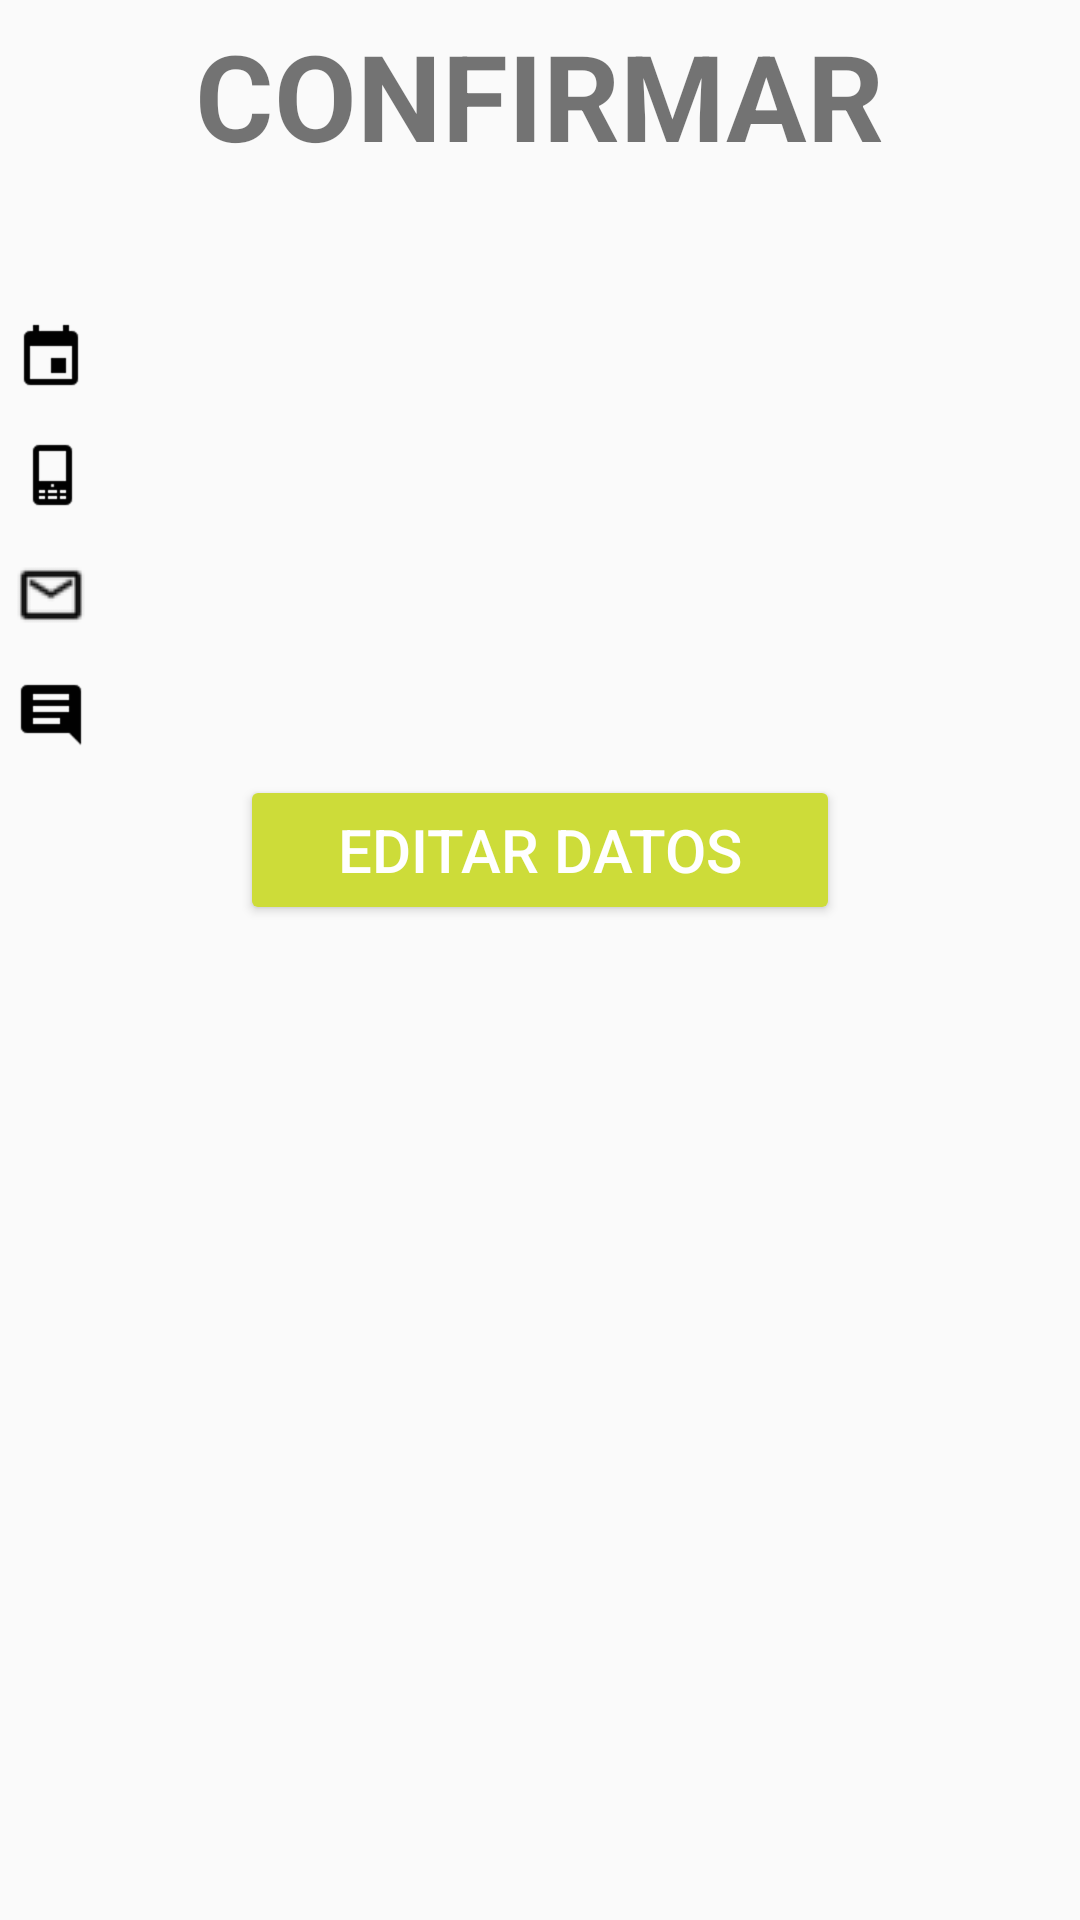

Icons on this 1080 × 1920 Android screen, each with its box as region(x1, y1, x2, y2):
calendar: region(23, 324, 79, 386)
comments: region(20, 684, 82, 745)
message: region(20, 570, 82, 620)
